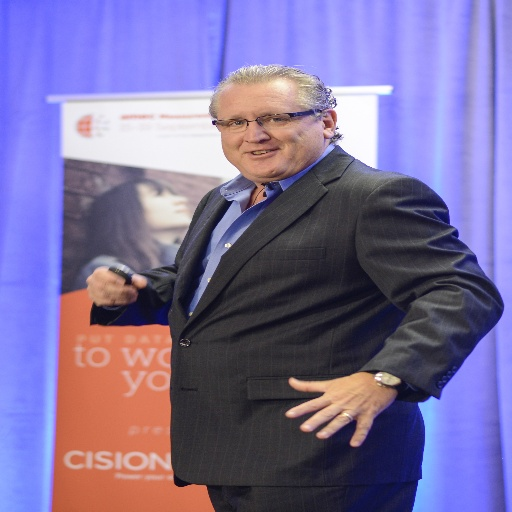hand: (281, 371, 400, 449), (82, 259, 164, 315)
